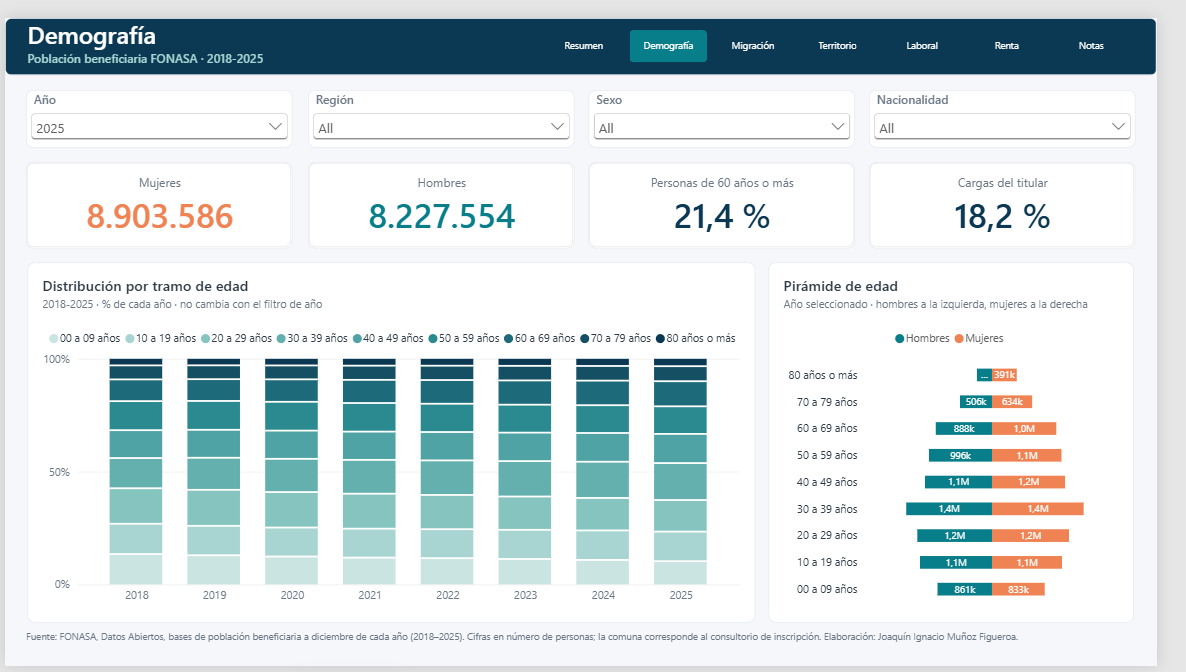

This screenshot's page, from the dashboard's own definition file:
{"tool":"powerbi","page":{"name":"Demografía","canvas":[1280,720],"ordinal":1},"visuals":[{"type":"shape","box":[0,0,1280,64],"z":0},{"type":"textbox","title":"Resumen","box":[24.6,0,559.4,64.3],"z":1000},{"type":"pageNavigator","box":[600,14,656,36],"z":2000},{"type":"textbox","title":"Fuente: FONASA, Datos Abiertos, bases de población beneficiaria a diciembre de cada año (2018-2025). Los gráficos excluyen edad “Sin información” (menos de 0,1%). Elaboración: Joaquín Ignacio Muñoz Fi","box":[24,680,1232,28],"z":3000},{"type":"slicer","fields":{"Values":["Fonasa.anio"]},"box":[24,80,296,64],"z":4000},{"type":"slicer","fields":{"Values":["Fonasa.Región"]},"box":[336,80,296,64],"z":5000},{"type":"slicer","fields":{"Values":["Fonasa.sexo"]},"box":[648,80,296,64],"z":6000},{"type":"slicer","fields":{"Values":["Fonasa.nacionalidad"]},"box":[960,80,296,64],"z":7000},{"type":"cardVisual","fields":{"Data":["Measures Table (DAX).Beneficiarios_Mujer"]},"box":[24,160,296,96],"z":8000},{"type":"cardVisual","fields":{"Data":["Measures Table (DAX).Beneficiarios_Hombre"]},"box":[336,160,296,96],"z":9000},{"type":"cardVisual","fields":{"Data":["Measures Table (DAX).%_Beneficiarios_60+"]},"box":[648,160,296,96],"z":10000},{"type":"cardVisual","fields":{"Data":["Measures Table (DAX).%_Beneficiarios_Carga"]},"box":[960,160,296,96],"z":11000},{"type":"hundredPercentStackedColumnChart","title":"Distribución por tramo de edad","fields":{"Category":["Fonasa.anio"],"Series":["Fonasa.edad_tramo"],"Y":["Measures Table (DAX).Total_Beneficiarios"]},"box":[24.2,272,808.6,400],"z":12000},{"type":"barChart","title":"Pirámide de edad","fields":{"Category":["Fonasa.edad_tramo"],"Y":["Measures Table (DAX).Hombres (pirámide)","Measures Table (DAX).Mujeres (pirámide)"]},"box":[848,272,406.3,400],"z":13000}]}

Visuals, with their boxes in screenshot pixels (x1, y1, x2, y2), scaled from the page's 1280x720 canvas onto the 1186x672 screenshot:
shape: <bbox>0, 0, 1185, 60</bbox>
"Resumen" textbox: <bbox>23, 0, 541, 60</bbox>
pageNavigator: <bbox>556, 13, 1164, 47</bbox>
"Fuente: FONASA, Datos Abiertos, bases de población beneficiaria a diciembre de cada año (2018-2025). Los gráficos excluyen edad “Sin información” (menos de 0,1%). Elaboración: Joaquín Ignacio Muñoz Fi" textbox: <bbox>22, 635, 1164, 661</bbox>
slicer - Fonasa.anio: <bbox>22, 75, 296, 134</bbox>
slicer - Fonasa.Región: <bbox>311, 75, 586, 134</bbox>
slicer - Fonasa.sexo: <bbox>600, 75, 875, 134</bbox>
slicer - Fonasa.nacionalidad: <bbox>890, 75, 1164, 134</bbox>
cardVisual - Measures Table (DAX).Beneficiarios_Mujer: <bbox>22, 149, 296, 239</bbox>
cardVisual - Measures Table (DAX).Beneficiarios_Hombre: <bbox>311, 149, 586, 239</bbox>
cardVisual - Measures Table (DAX).%_Beneficiarios_60+: <bbox>600, 149, 875, 239</bbox>
cardVisual - Measures Table (DAX).%_Beneficiarios_Carga: <bbox>890, 149, 1164, 239</bbox>
"Distribución por tramo de edad" hundredPercentStackedColumnChart: <bbox>22, 254, 772, 627</bbox>
"Pirámide de edad" barChart: <bbox>786, 254, 1162, 627</bbox>
